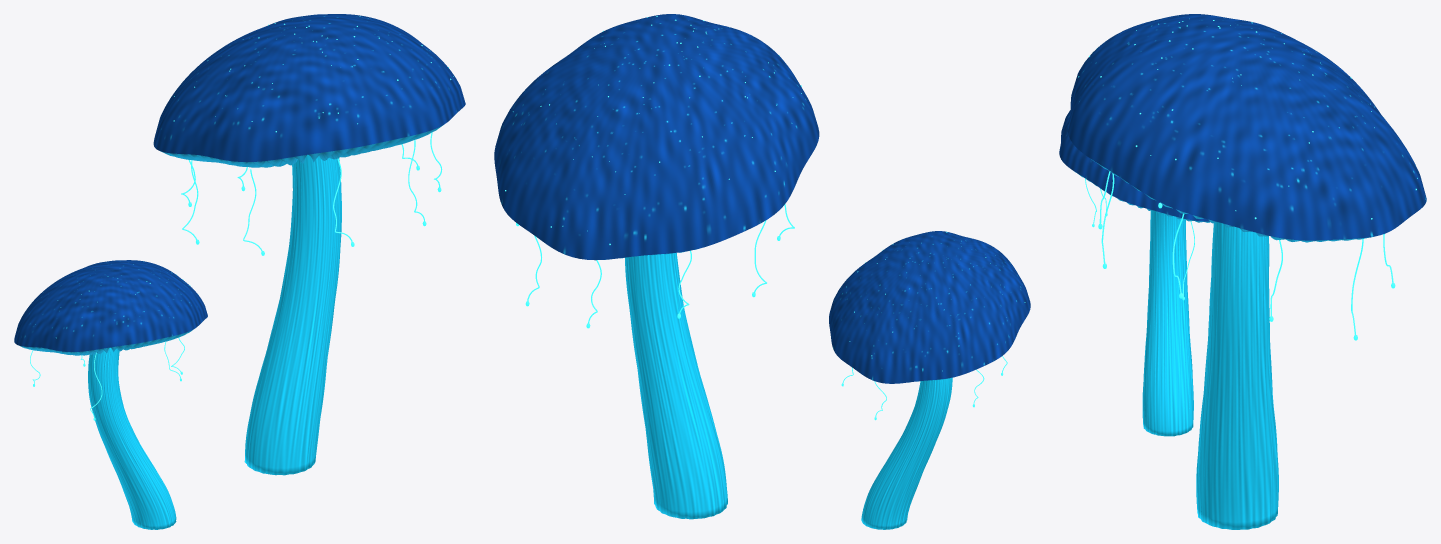
File: cyan_pair.glb
The picture shows the model from 3 angles, left to right: view 1: azimuth 30°, elevation 25°; view 2: azimuth 150°, elevation 25°; view 3: azimuth 270°, elevation 25°; orthographic projection. The views are drawn at different scales.
Parts seen in each view (by area): view 1: Cyan_Tall, Cyan_Young; view 2: Cyan_Tall, Cyan_Young; view 3: Cyan_Tall, Cyan_Young.
Part boxes in pixels (box(x1,y1,x2,y2)): Cyan_Tall: box(153, 14, 465, 475); Cyan_Young: box(14, 260, 207, 529); Cyan_Tall: box(494, 14, 819, 519); Cyan_Young: box(829, 231, 1030, 529); Cyan_Tall: box(1068, 14, 1426, 529); Cyan_Young: box(1059, 110, 1210, 436).
Size of the model in its own units: 0.3195 by 0.2934 by 0.1959.
Materials: 4 (3 with a texture image).
